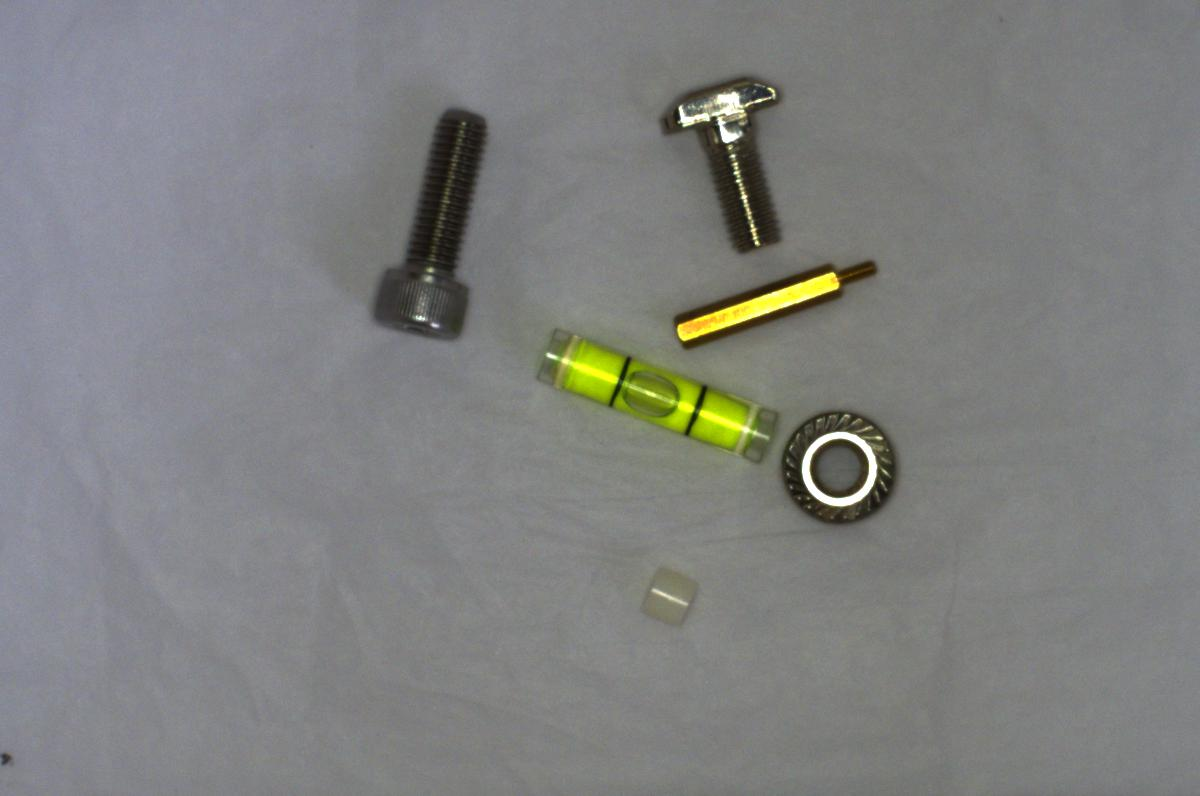Flange nut: (779, 403, 899, 528)
Hexagon pillar: (664, 253, 882, 346)
Hexagon screw: (372, 99, 490, 348)
Horizontal bubble: (534, 330, 776, 462)
Plastic cushion pillar: (634, 560, 705, 635)
T-shaped screw: (657, 72, 785, 248)
